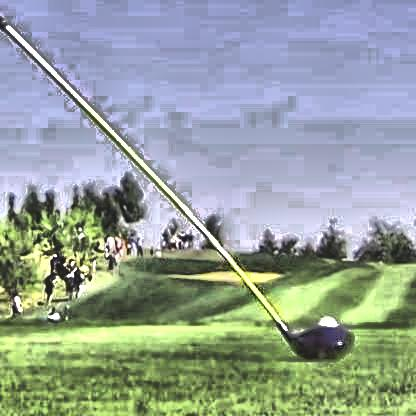golfball: (313, 315, 338, 339)
